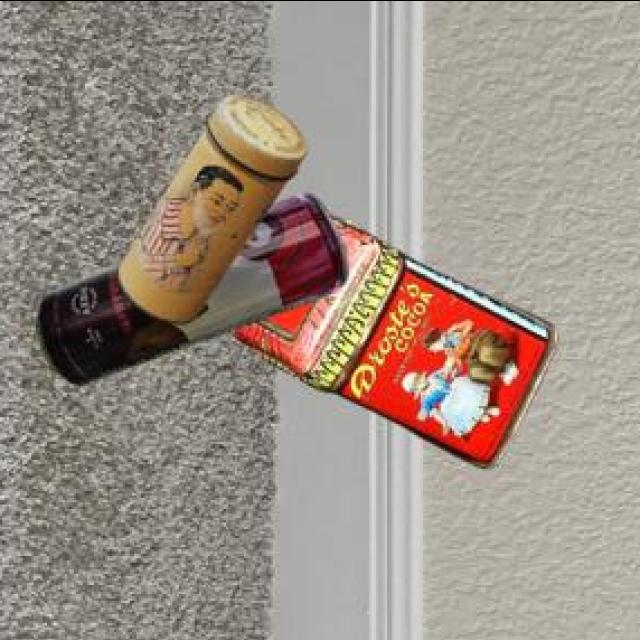logam: (238, 211, 561, 464), (39, 189, 350, 379), (120, 91, 310, 319)
